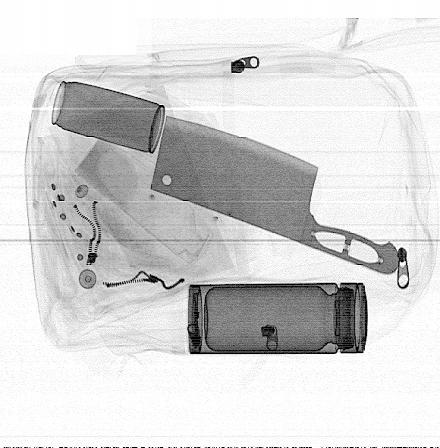Knife: (150, 116, 400, 275)
